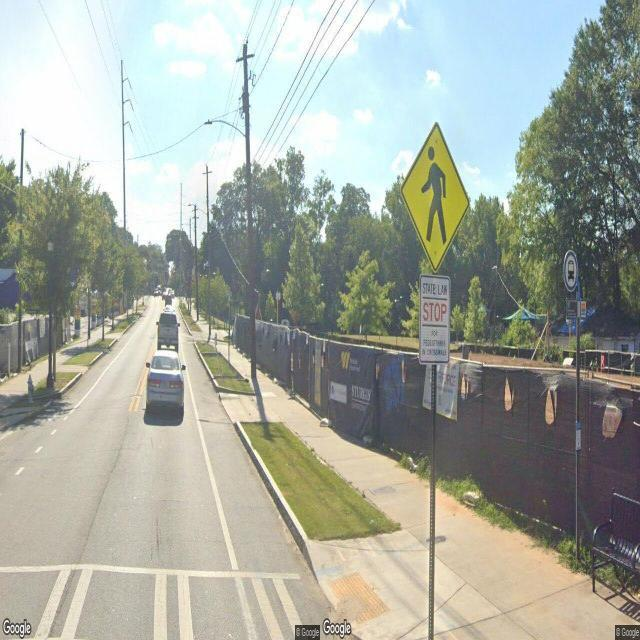seating: (590, 488, 640, 596)
